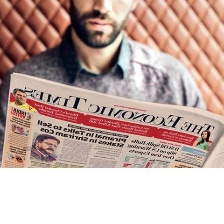news_paper: (0, 68, 224, 171)
